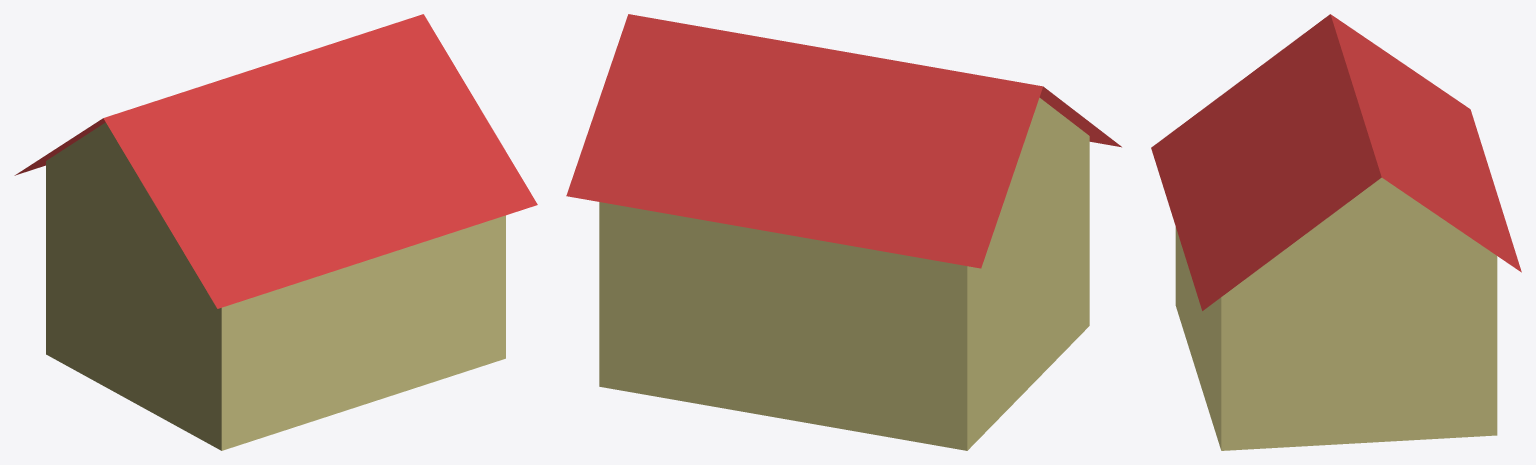
The picture shows the model from 3 angles, left to right: view 1: azimuth 30°, elevation 25°; view 2: azimuth 150°, elevation 25°; view 3: azimuth 270°, elevation 25°; orthographic projection. The views are drawn at different scales.
Bounding box in the file's own units: 14.61 × 12.62 × 10.28.
